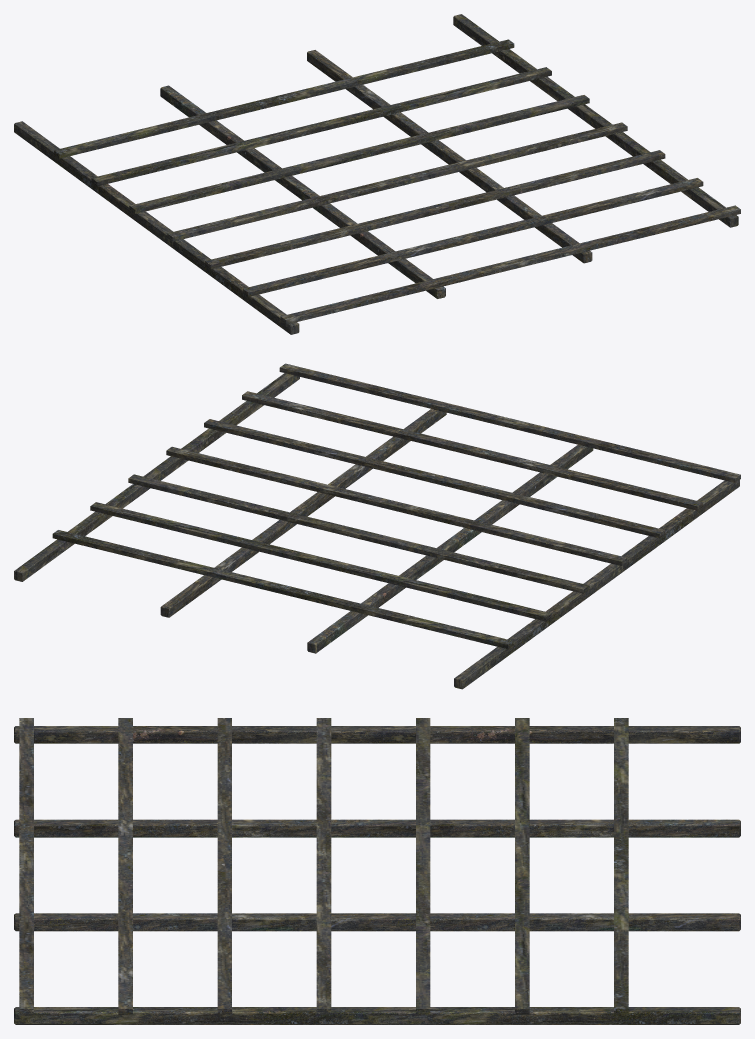
Rendered from RoofWood.fbx.
The picture shows the model from 3 angles, top to bottom: view 1: azimuth 30°, elevation 25°; view 2: azimuth 150°, elevation 25°; view 3: azimuth 270°, elevation 25°; orthographic projection. The views are drawn at different scales.
Visible parts, largest first — view 1: Horizontal, Vertical; view 2: Horizontal, Vertical; view 3: Vertical, Horizontal.
Part boxes in pixels (bbox=[...]): Horizontal: bbox=[54, 39, 740, 324]; Vertical: bbox=[14, 14, 738, 334]; Horizontal: bbox=[52, 363, 740, 649]; Vertical: bbox=[14, 373, 739, 689]; Vertical: bbox=[14, 726, 740, 1024]; Horizontal: bbox=[19, 718, 628, 1014].
Size of the model in its own units: 396 by 11.96 by 418.
